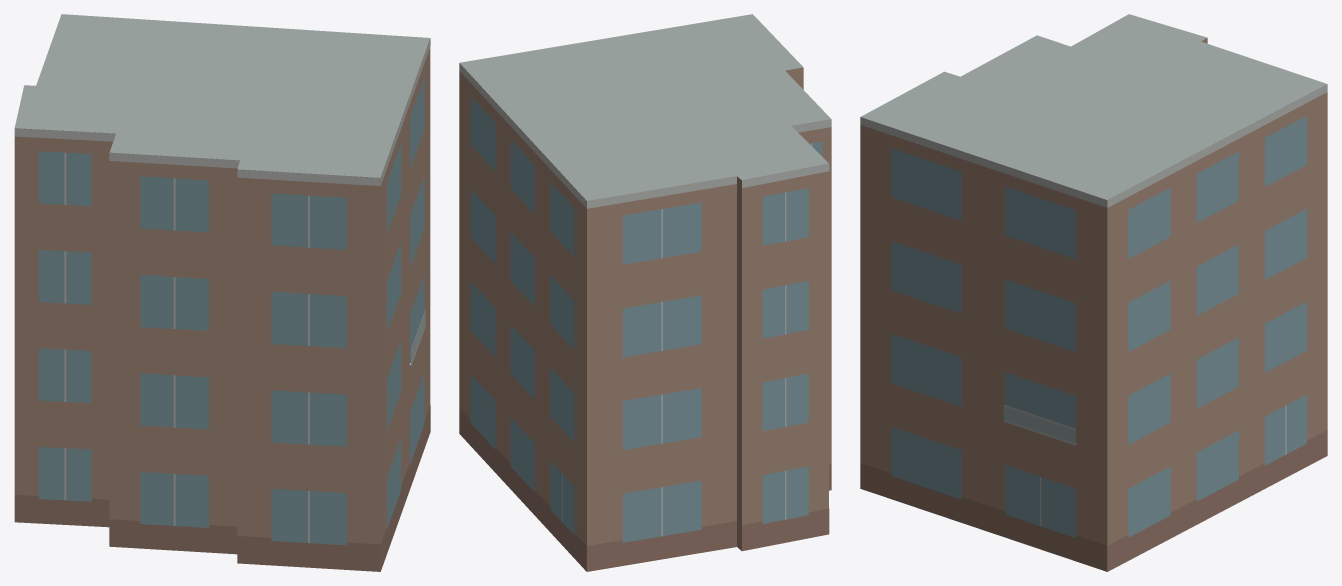
File: survey-upis-32679718.glb
3 views of the same model, side by side, from view 1: azimuth 30°, elevation 25°; view 2: azimuth 150°, elevation 25°; view 3: azimuth 270°, elevation 25° (orthographic). The views are drawn at different scales.
Visible parts, largest first — view 1: survey-upis-32679718.tmp; view 2: survey-upis-32679718.tmp; view 3: survey-upis-32679718.tmp.
Part boxes in pixels (x1,y1,x2,y2): survey-upis-32679718.tmp: [14, 14, 430, 571]; survey-upis-32679718.tmp: [459, 14, 831, 571]; survey-upis-32679718.tmp: [860, 14, 1327, 571].
Size of the model in its own units: 12.47 by 11.6 by 13.22.
